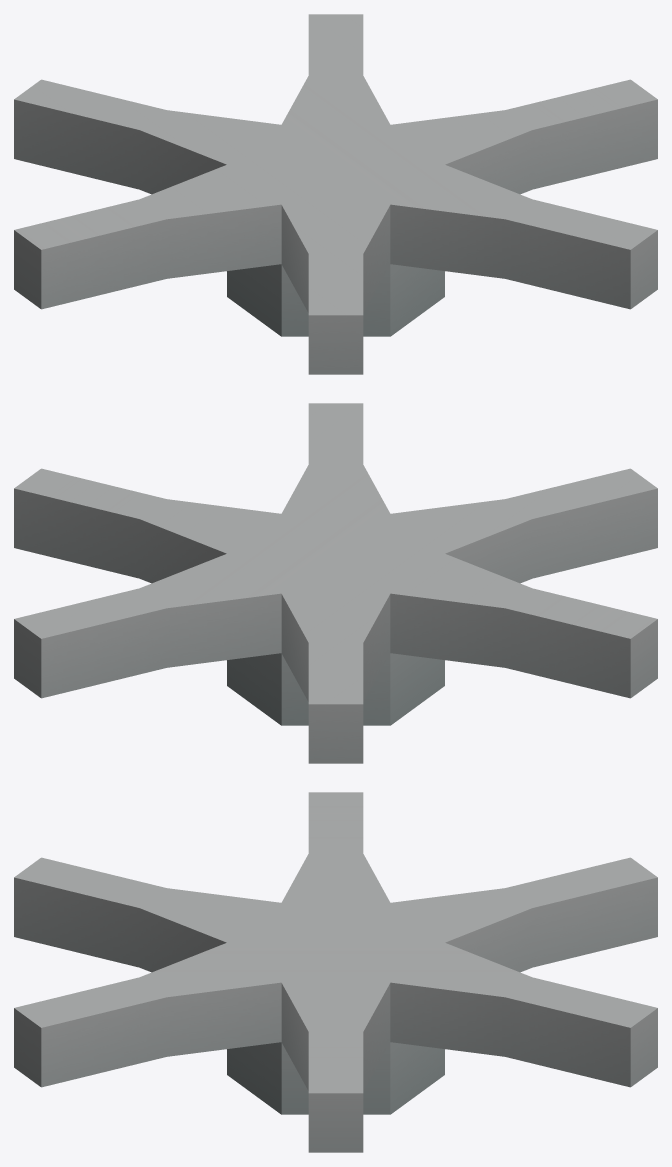
Rendered from Nuclear Pump Blade.obj.
3 views of the same model, one above another, from view 1: azimuth 30°, elevation 25°; view 2: azimuth 150°, elevation 25°; view 3: azimuth 270°, elevation 25° (orthographic).
Parts seen in each view (by area): view 1: Cylinder.001; view 2: Cylinder.001; view 3: Cylinder.001.
Boxes of the visible parts, x1,y1,x2,y2 form: Cylinder.001: (14, 14, 657, 374); Cylinder.001: (14, 403, 657, 763); Cylinder.001: (14, 792, 657, 1152).
Bounding box in the file's own units: 1.39 × 0.2843 × 1.26.
